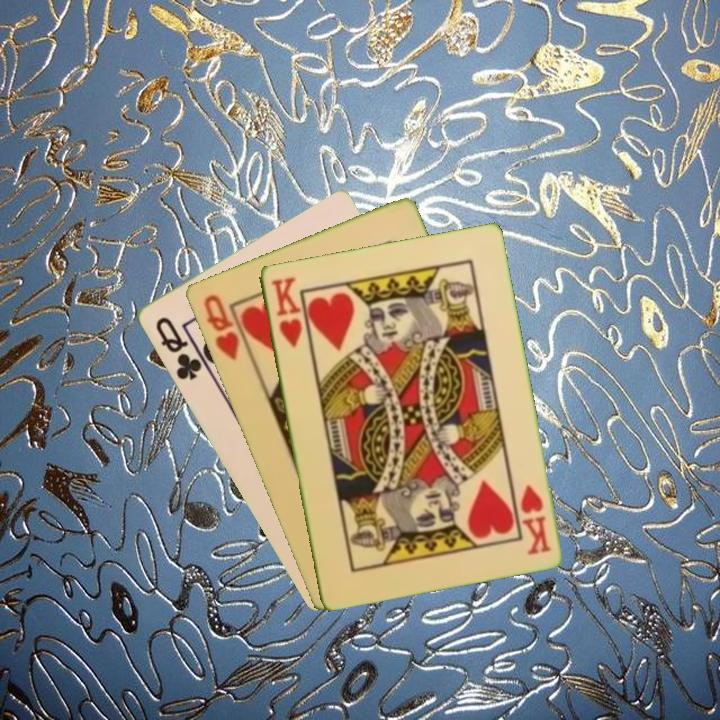Kh: (266, 273, 305, 350), (516, 480, 553, 558)
Qc: (151, 313, 205, 383)
Qh: (199, 290, 242, 364)
